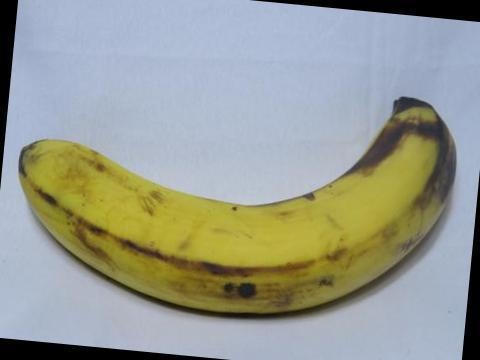ripe: (10, 80, 471, 324)
